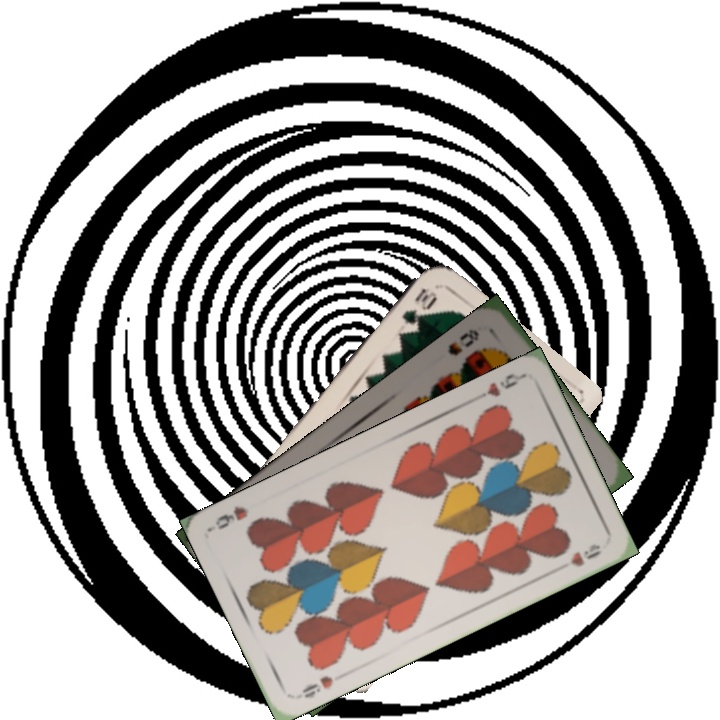G10: (397, 283, 440, 327)
H9: (470, 369, 525, 403), (298, 671, 336, 701)
S8: (443, 325, 482, 358)
